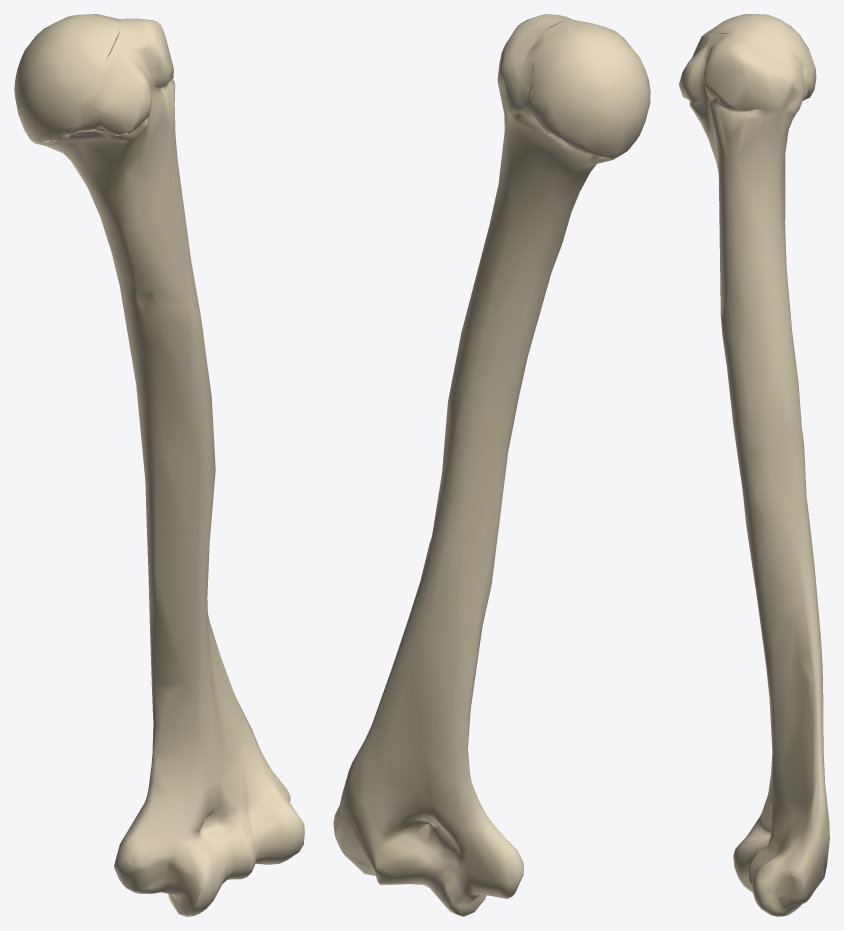
The model's file is esqueleto-humerus-l.glb.
3 views of the same model, side by side, from view 1: azimuth 30°, elevation 25°; view 2: azimuth 150°, elevation 25°; view 3: azimuth 270°, elevation 25° (orthographic). The views are drawn at different scales.
Parts seen in each view (by area): view 1: Humerus.l; view 2: Humerus.l; view 3: Humerus.l.
Part boxes in pixels (<box>): Humerus.l: <box>14,14,304,916</box>; Humerus.l: <box>333,14,650,916</box>; Humerus.l: <box>679,14,829,916</box>.
Bounding box in the file's own units: 0.1042 × 0.3173 × 0.0524.
